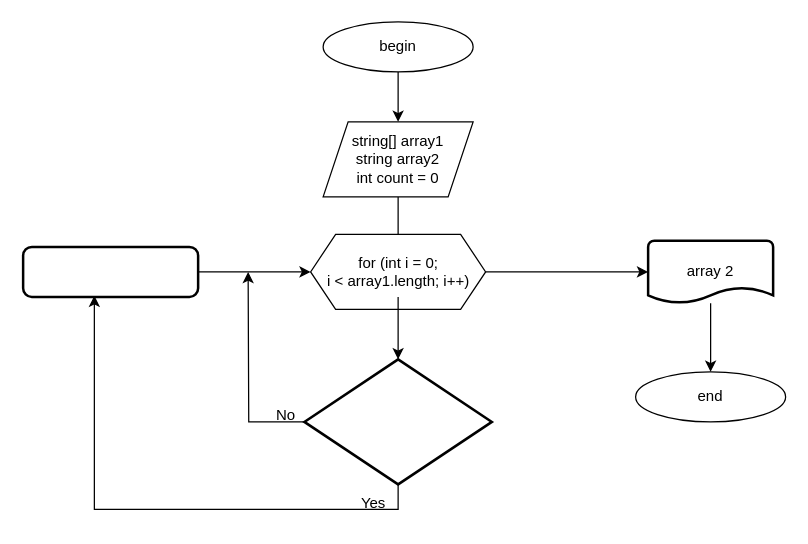
The diagram is 808 pixels wide and 544 high, and some of its shapes have lost their labels. The shapes that lost their labels are listed below. From the top down, each one's centre as x and y in pixels, then its label:
At (110,271): "array2[count] = array1[i] count++".
At (397,421): "if array.length < = 3".
